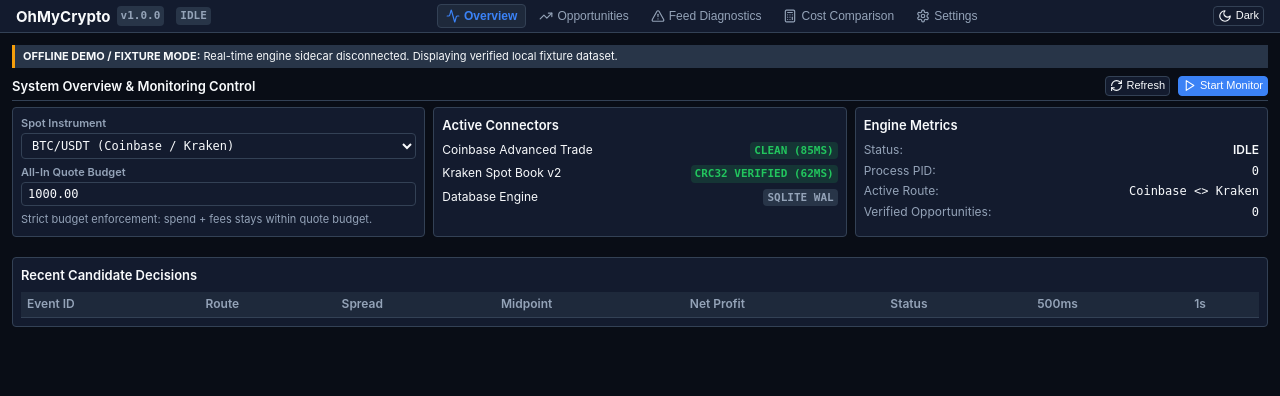
Test: OhMyCrypto Desktop UI › switches to Feed Diagnostics view and displays incident metrics
The width and height of the screenshot is (1280, 396).
Click the button "Feed Diagnostics" at (706, 16), box 642,4 -> 770,28
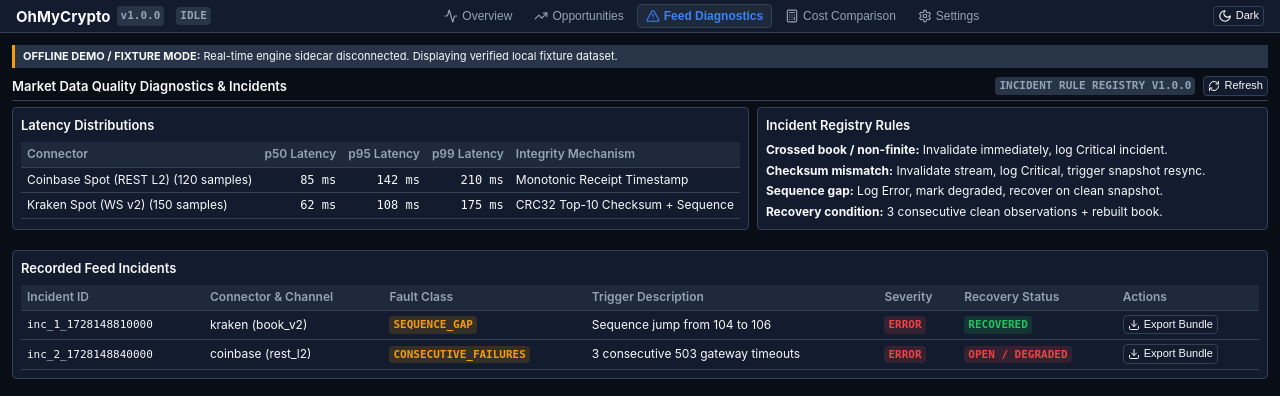
Check: the heading "Market Data Quality Diagnostics & Incidents" is shown, box 12,77 -> 287,95
Check: the heading "Latency Distributions" is shown, box 21,117 -> 154,133
Check: the heading "Recorded Feed Incidents" is shown, box 21,260 -> 176,276
